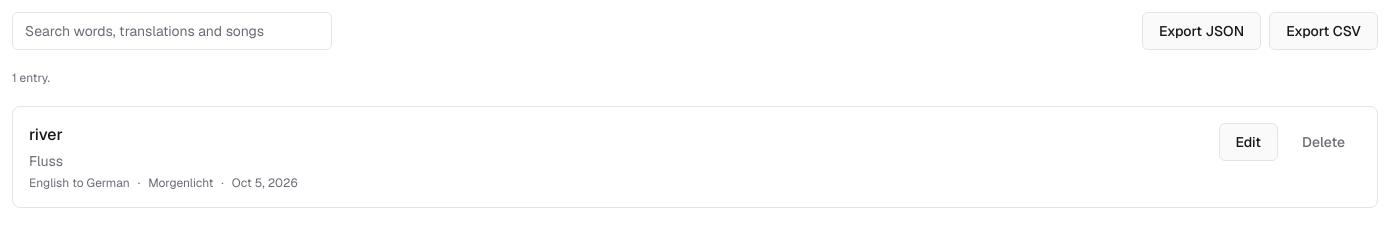
it: VocabularyList › deleting › asks for confirmation first
Click the button with aria-label "Delete river" at (1323, 142), box [1286,123,1361,161]
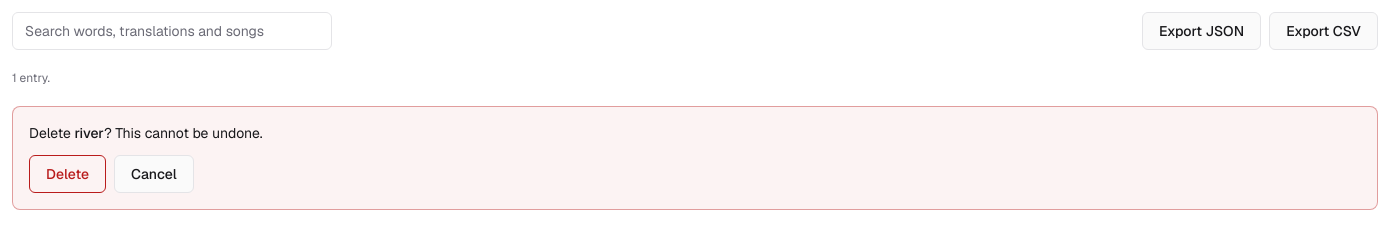
Result: the text "Delete river? This cannot be undone." is shown at [29,124,263,142]
